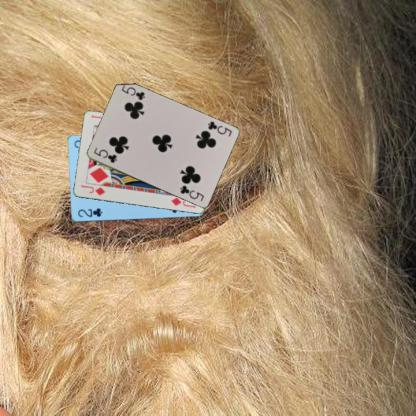2c: (75, 206, 104, 218)
5c: (204, 119, 233, 138), (91, 145, 118, 164)
Jd: (79, 183, 106, 197)
